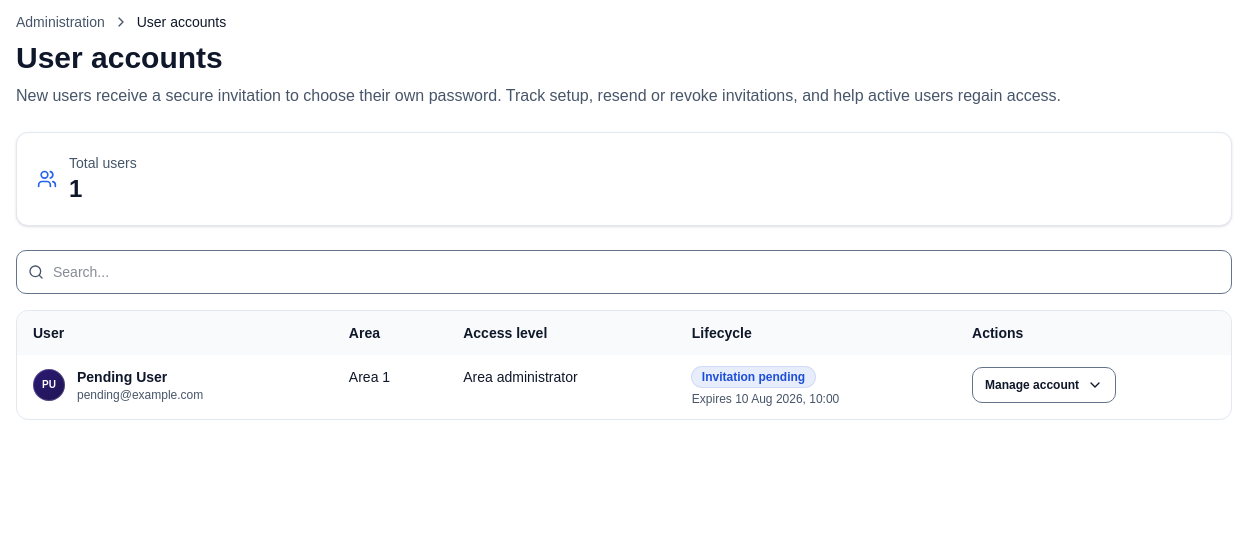
Test: administrator account management › shows only valid pending-invitation actions under the invite permission
The width and height of the screenshot is (1249, 539).
Check: the text "Invitation pending" is shown, box [692, 367, 815, 387]
Click the button with aria-label "Manage account for Pending User". click: (1044, 385)
box: [972, 367, 1116, 403]
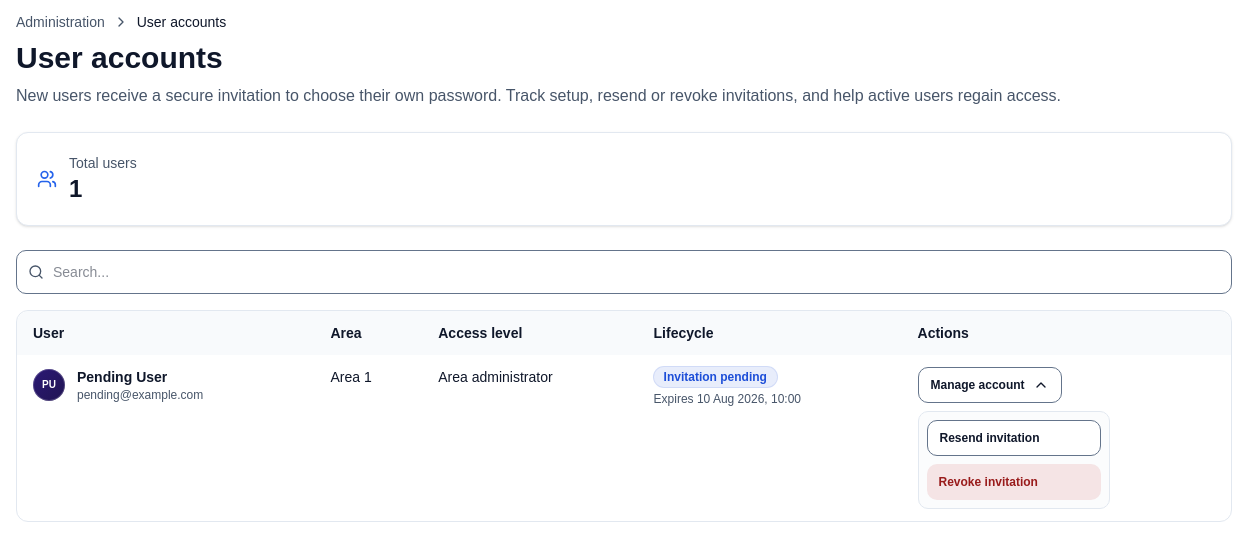
Check: the button "Resend invitation" is shown, box [926, 420, 1100, 456]
Check: the button "Revoke invitation" is shown, box [926, 464, 1100, 500]
